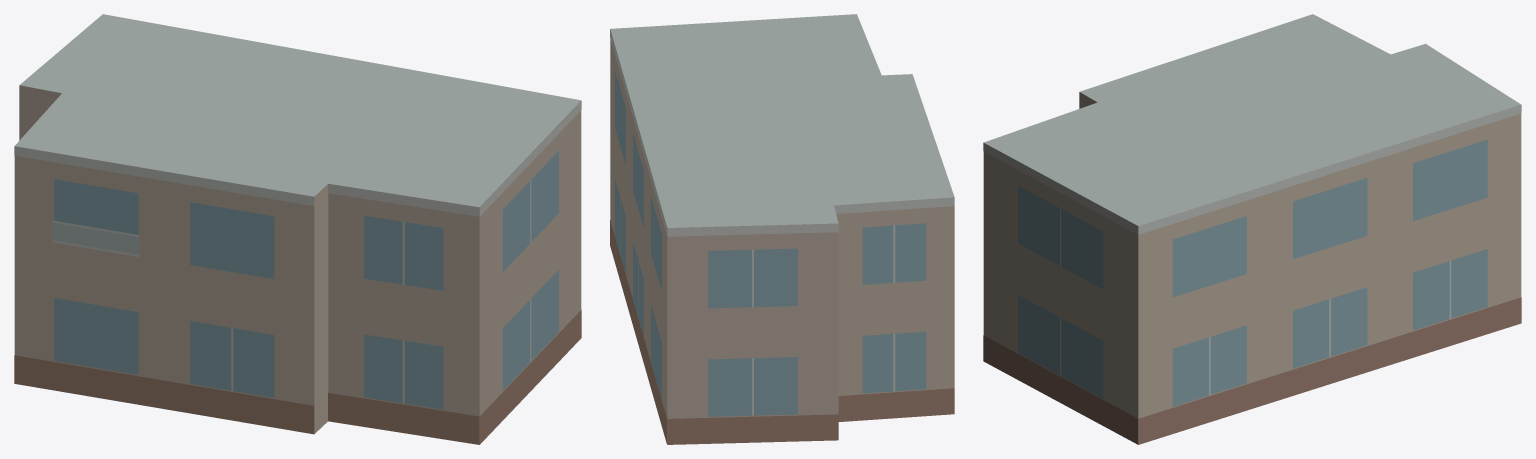
File: survey-upis-33022443.glb
3 renders of one model, left to right at view 1: azimuth 30°, elevation 25°; view 2: azimuth 150°, elevation 25°; view 3: azimuth 270°, elevation 25°, orthographic. The views are drawn at different scales.
Visible parts, largest first — view 1: survey-upis-33022443.tmp; view 2: survey-upis-33022443.tmp; view 3: survey-upis-33022443.tmp.
Boxes of the visible parts, x1,y1,x2,y2 form: survey-upis-33022443.tmp: (14,14,581,444); survey-upis-33022443.tmp: (610,14,954,444); survey-upis-33022443.tmp: (983,14,1521,444).
Bounding box in the file's own units: 12.7 × 6.1 × 13.61.
